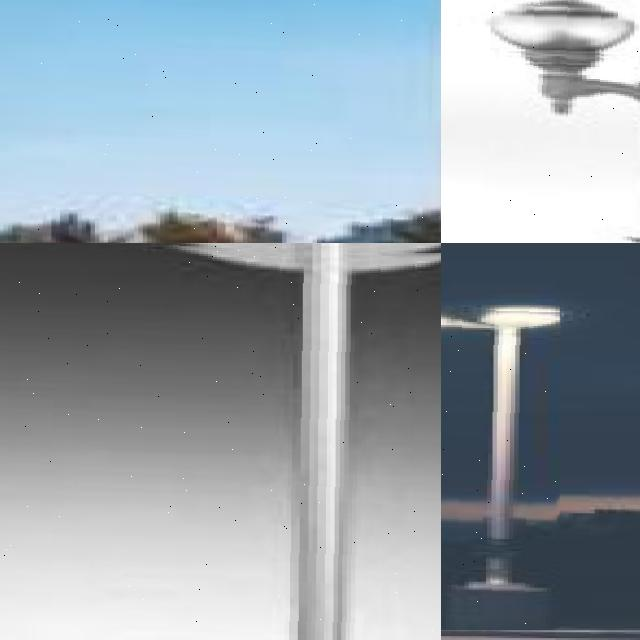street light: (0, 243, 441, 640), (0, 0, 441, 243), (441, 307, 561, 629), (483, 0, 640, 243)
